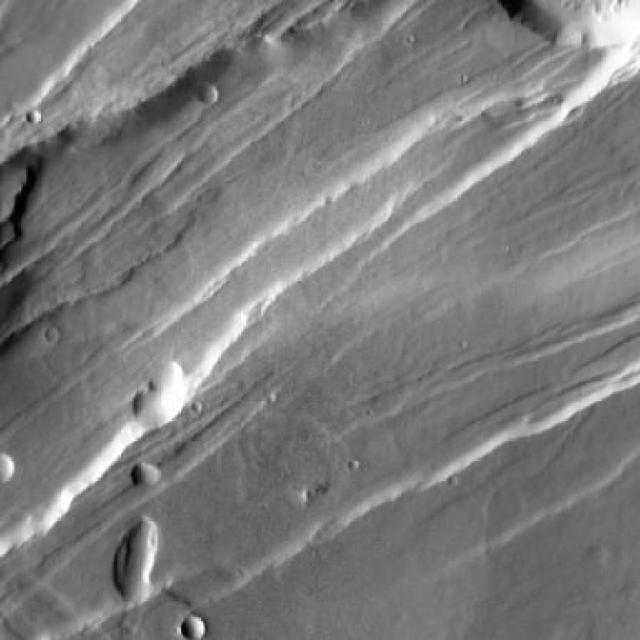crater: (0, 457, 26, 485), (180, 618, 208, 640), (201, 86, 221, 106)
